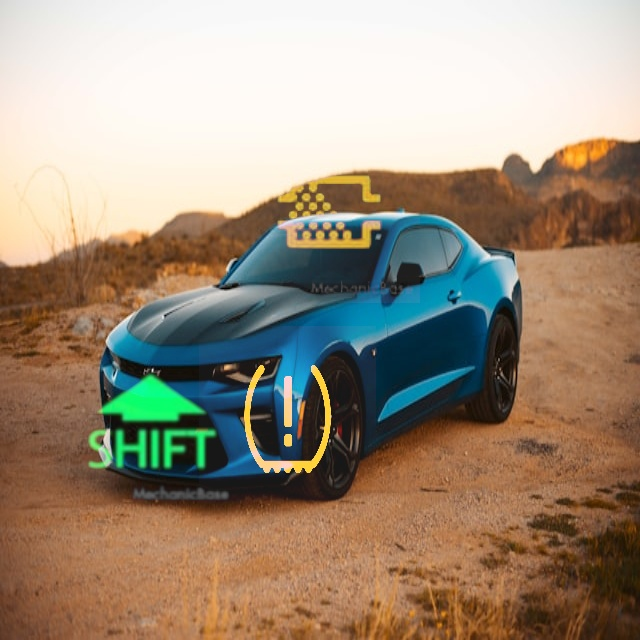symbol: (240, 123, 420, 303), (199, 326, 376, 503), (67, 340, 235, 508)
